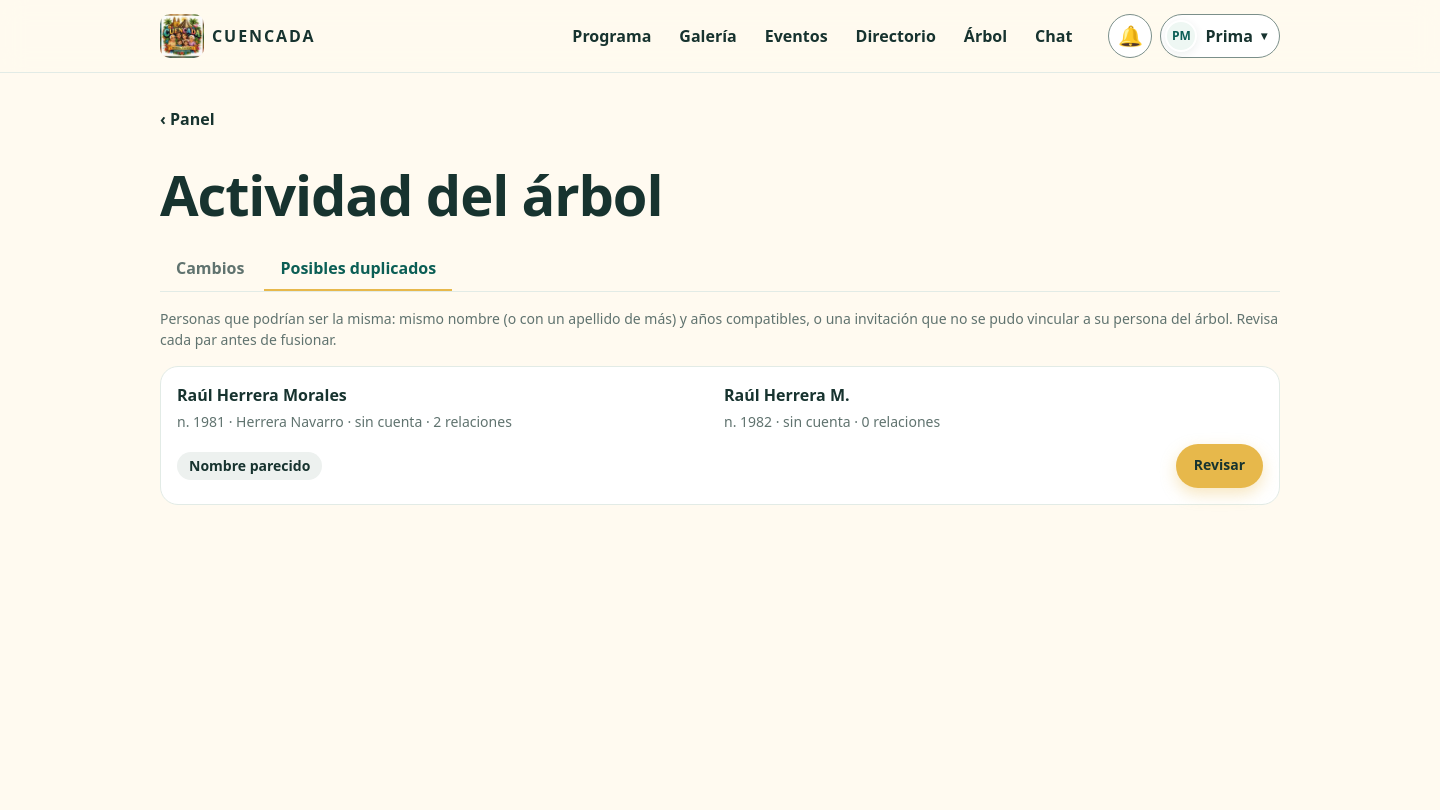
Test: Actividad del árbol · Posibles duplicados › blocks merged dates that break a rule until a coherent choice is made
This screenshot has width=1440, height=810.
Click the button with aria-label "Revisar:".
click(1219, 466)  # box [1176, 444, 1263, 488]
(page scrolled)
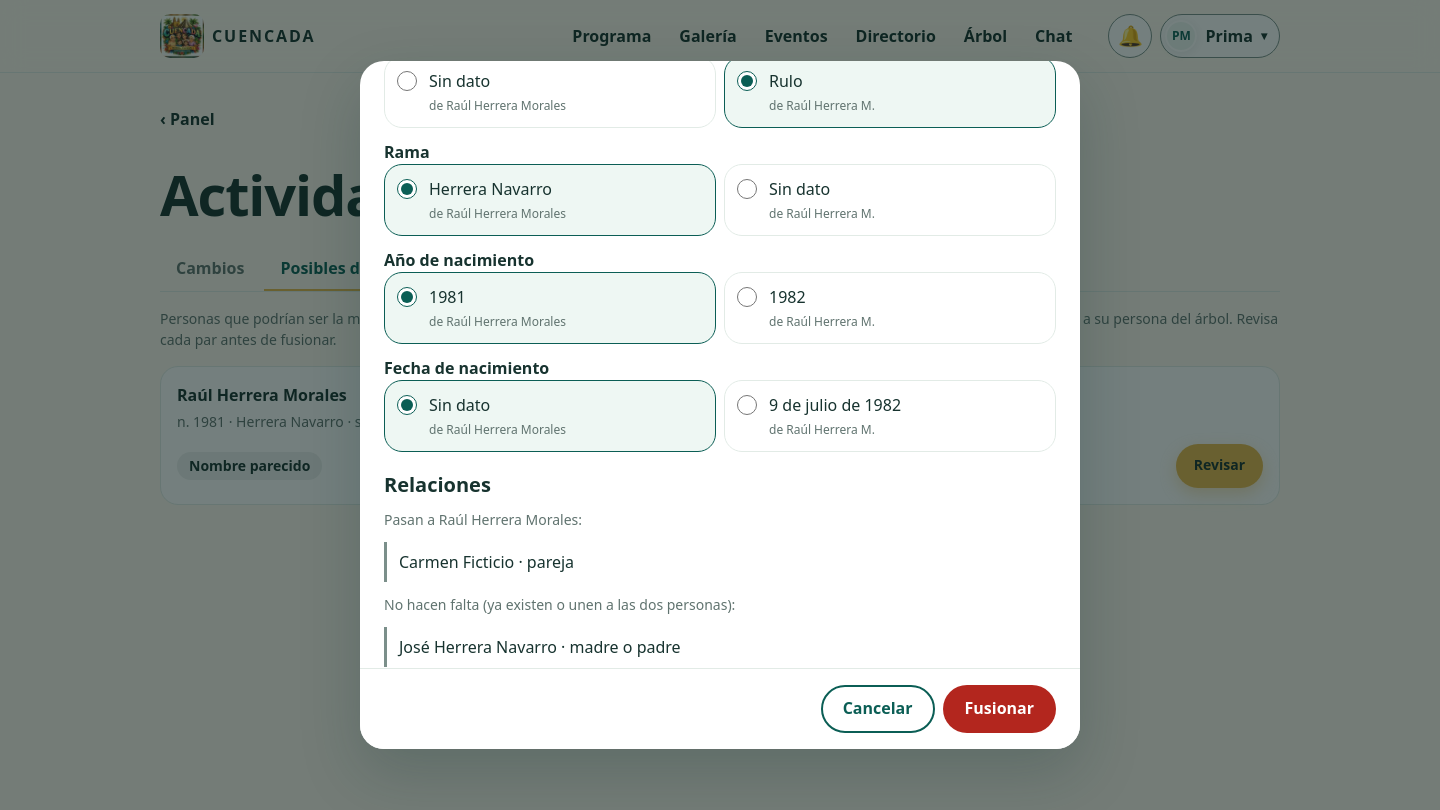
Click the radio button labelled "9 de julio de 1982 de Raúl Herrera M.".
click(747, 405)  # box [737, 395, 757, 415]
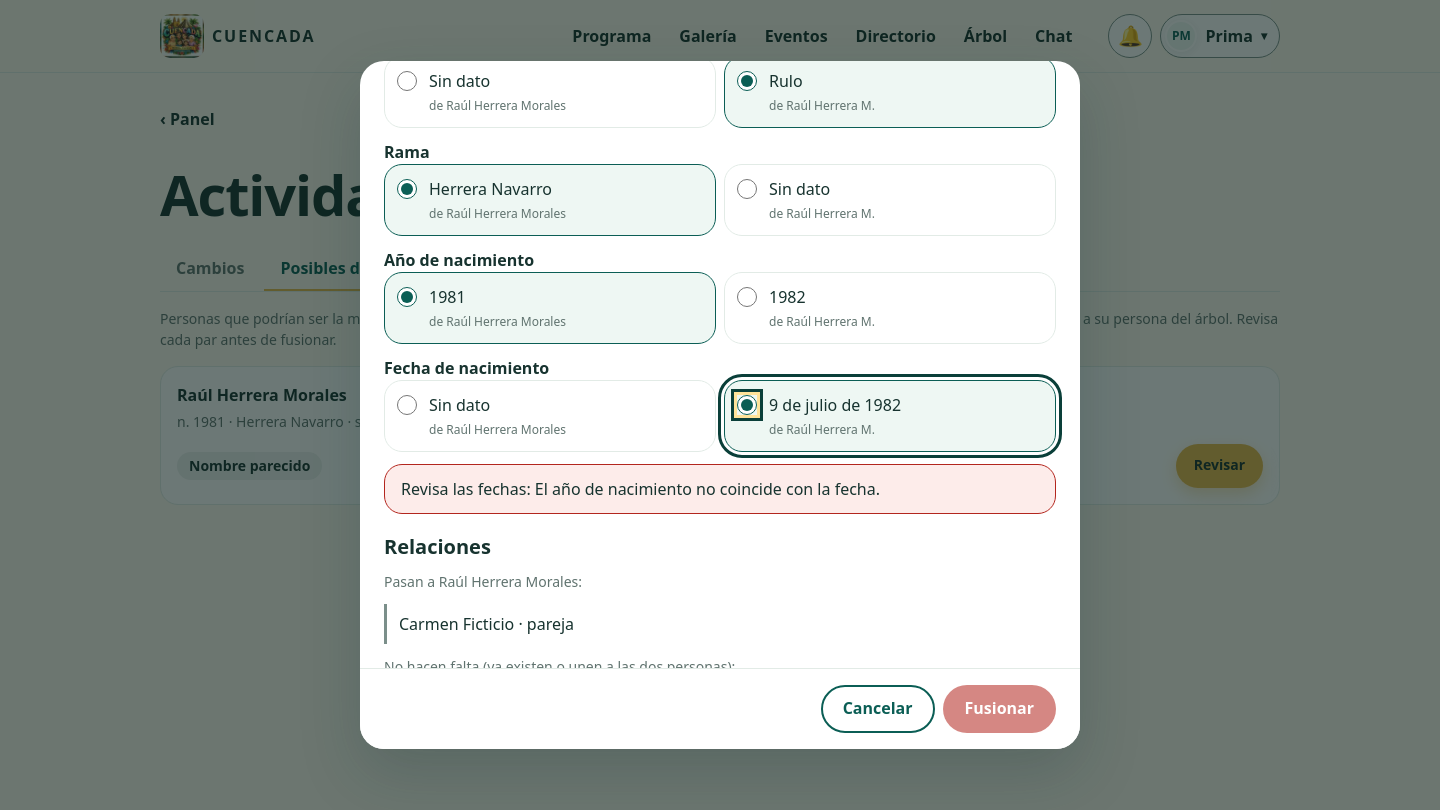
expect the text "Revisa las fechas: El año de nacimiento no coincide con la fecha." is shown: met, box [384, 464, 1056, 514]
expect the button "Fusionar" is disabled: met, box [942, 685, 1056, 733]
Click the radio button labelled "1982 de Raúl Herrera M.".
click(747, 297)  # box [737, 287, 757, 307]
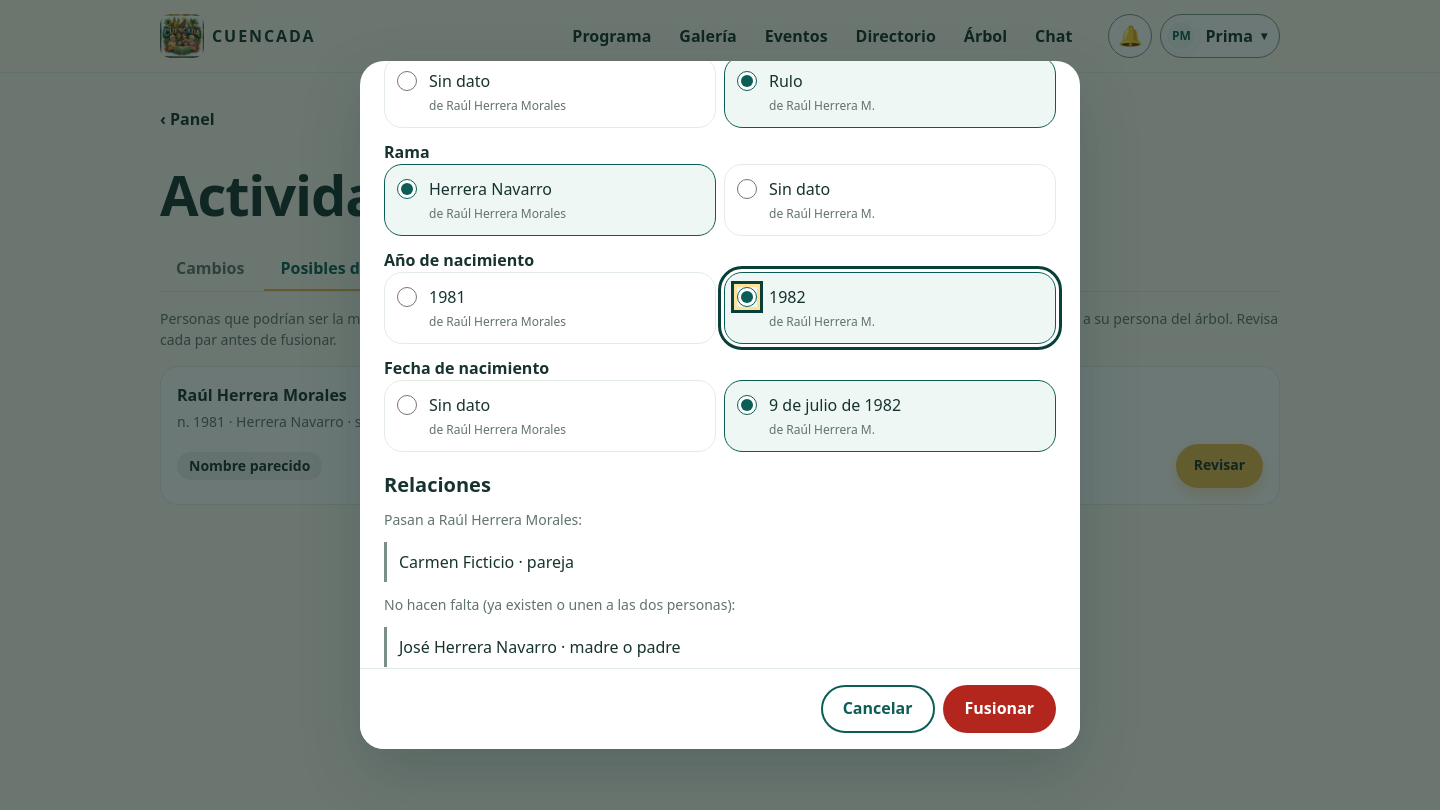
expect the text "Revisa las fechas:" is gone: met
expect the button "Fusionar" is enabled: met, box [942, 685, 1056, 733]
